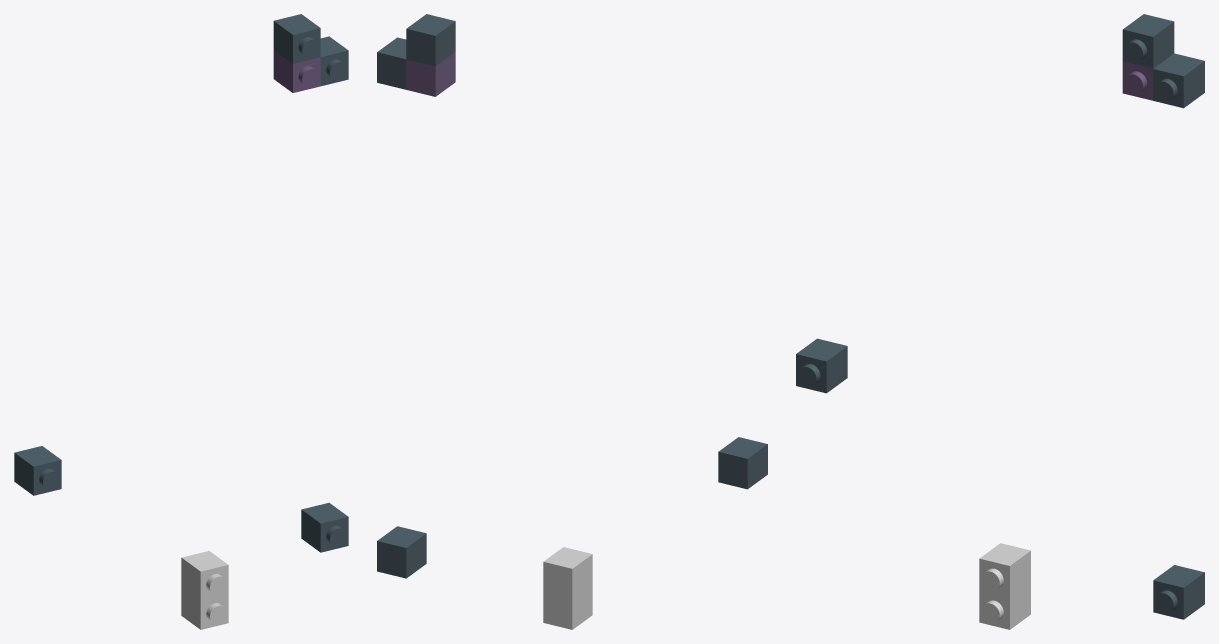
File: current.glb
3 renders of one model, left to right at view 1: azimuth 30°, elevation 25°; view 2: azimuth 150°, elevation 25°; view 3: azimuth 330°, elevation 25°, orthographic. The views are drawn at different scales.
Visible parts, largest first — view 1: world; view 2: world; view 3: world.
Boxes of the visible parts, x1,y1,x2,y2 form: world: (14,14,348,629); world: (377,14,767,629); world: (796,14,1204,629).
Size of the model in its own units: 96 by 152 by 21.
